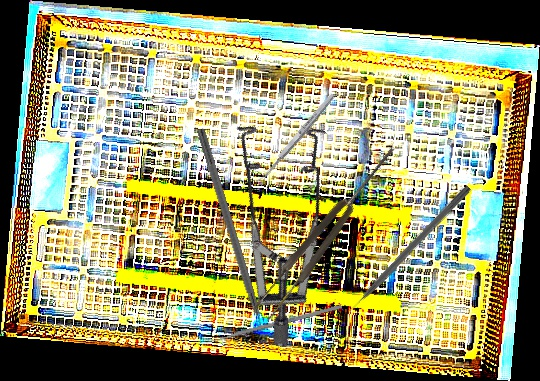Hook Surgical: (193, 127, 271, 348)
Pusher: (339, 183, 472, 321), (197, 303, 343, 348)
Speculum: (147, 88, 397, 352)
Surgical Spoon: (255, 91, 337, 187)
Tissue Forceps: (248, 139, 406, 325)
